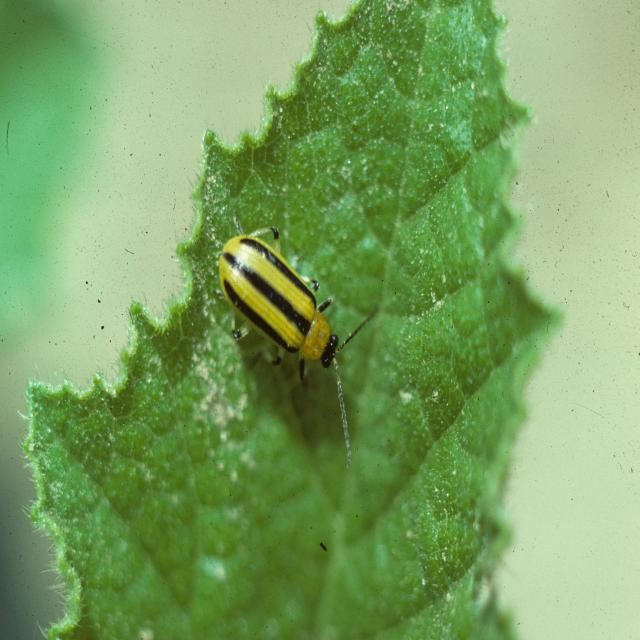cucumber_beetle: (205, 207, 388, 467)
